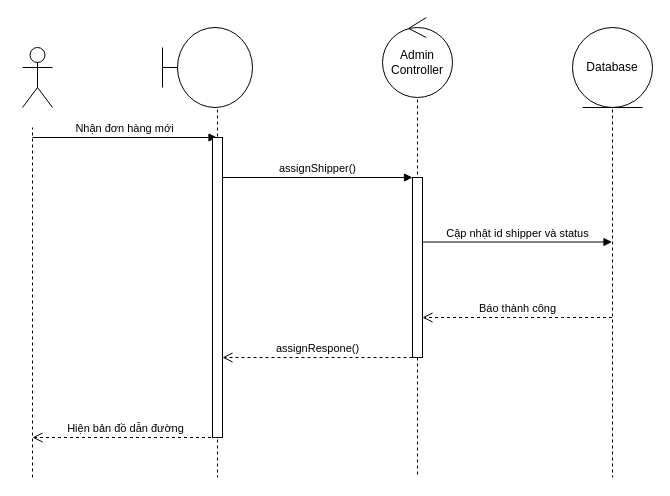
Image size: 670x496. Some labels were removed from this diagram. Each missing label, with the centre of its shape:
"AdminUI" goes at point 207,67.
"Shipper" goes at point 37,77.
